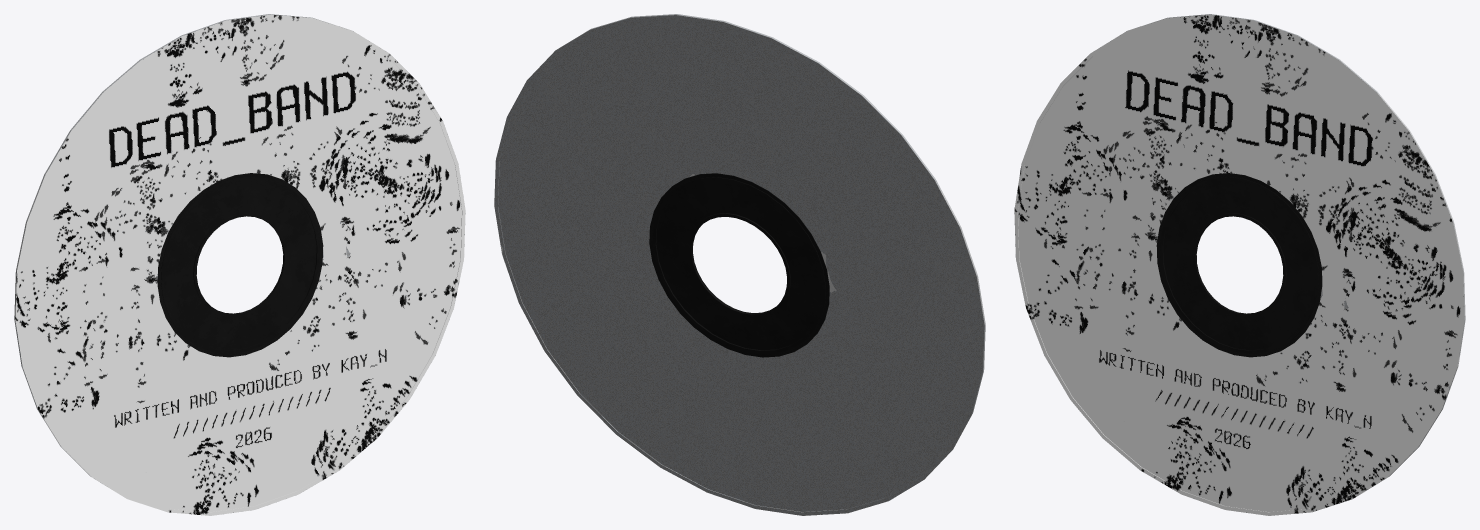
The model's file is DEAD_BAND_OST.glb.
3 renders of one model, left to right at view 1: azimuth 30°, elevation 25°; view 2: azimuth 150°, elevation 25°; view 3: azimuth 330°, elevation 25°, orthographic. The views are drawn at different scales.
Parts seen in each view (by area): view 1: CD_Inner.001, CD_Inner.002; view 2: CD_Inner.001, CD_Inner.002; view 3: CD_Inner.001, CD_Inner.002.
Part boxes in pixels (<box>): CD_Inner.001: <box>14,14,465,515</box>; CD_Inner.002: <box>157,173,323,357</box>; CD_Inner.001: <box>494,14,985,515</box>; CD_Inner.002: <box>649,173,829,357</box>; CD_Inner.001: <box>1014,14,1465,515</box>; CD_Inner.002: <box>1156,173,1322,357</box>.
Bounding box in the file's own units: 2 × 1.99 × 0.2305.
2 materials, 2 textured.
